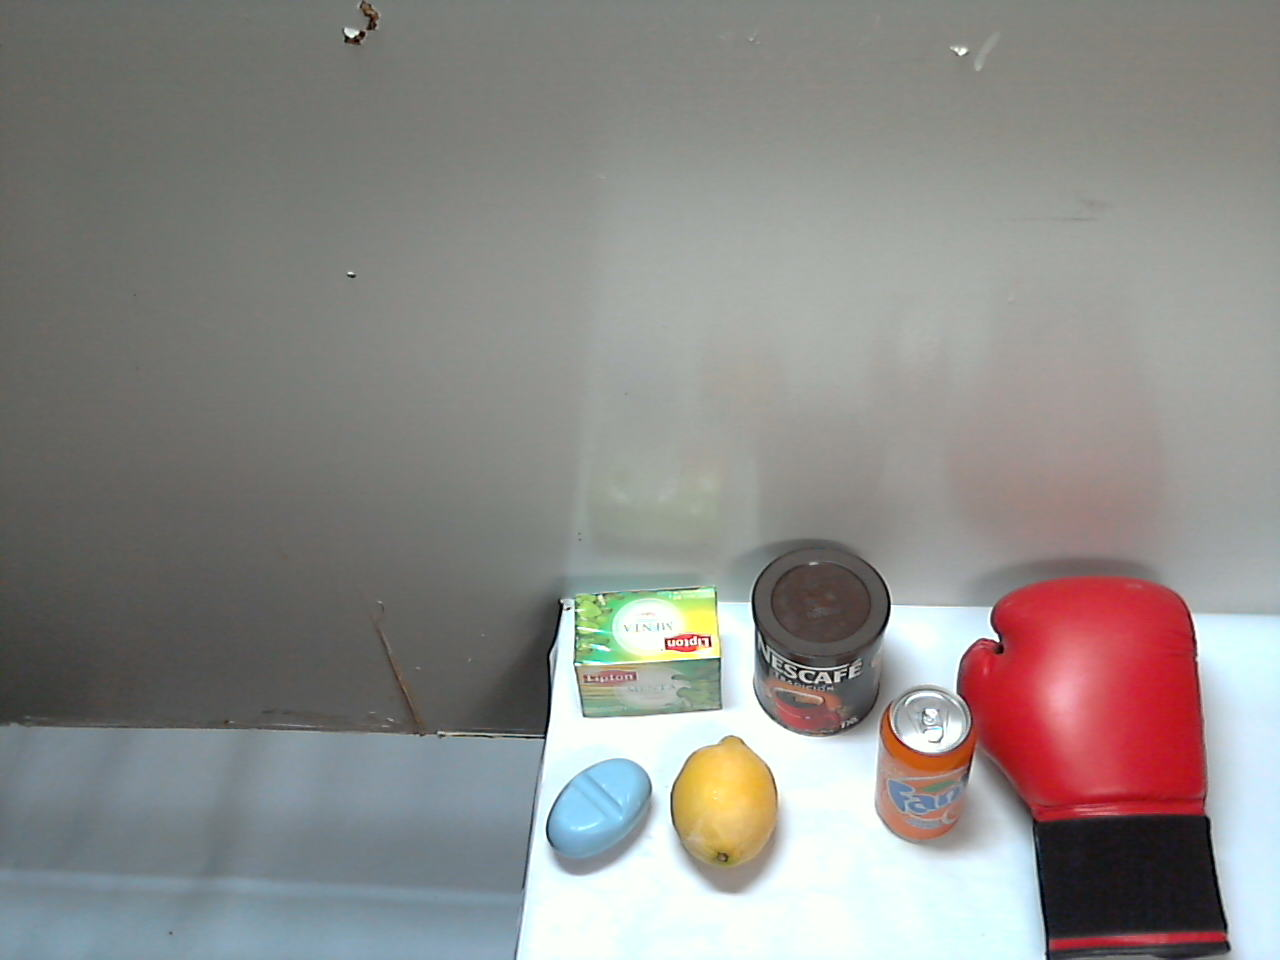aceite: (801, 486, 948, 779)
durazno: (1014, 622, 1176, 801)
lata: (920, 704, 1048, 885)
mostaza: (759, 776, 866, 947)
platano: (879, 809, 1160, 960)
platoperro: (478, 673, 791, 960)
